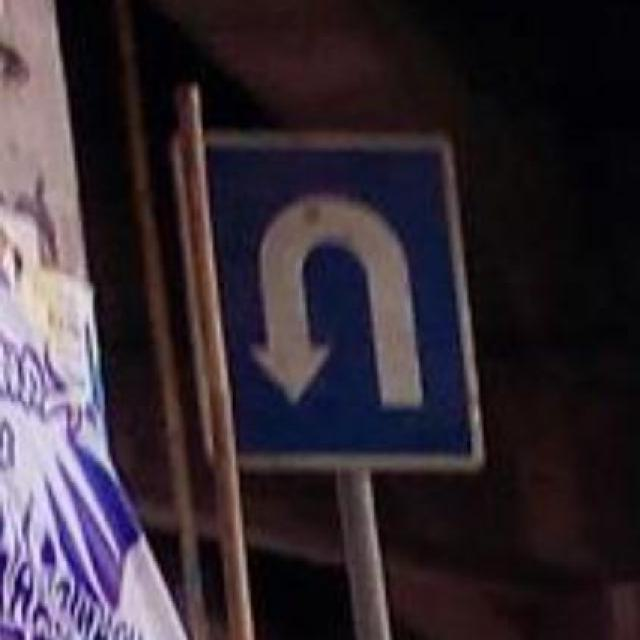U-turn: (213, 140, 464, 462)
